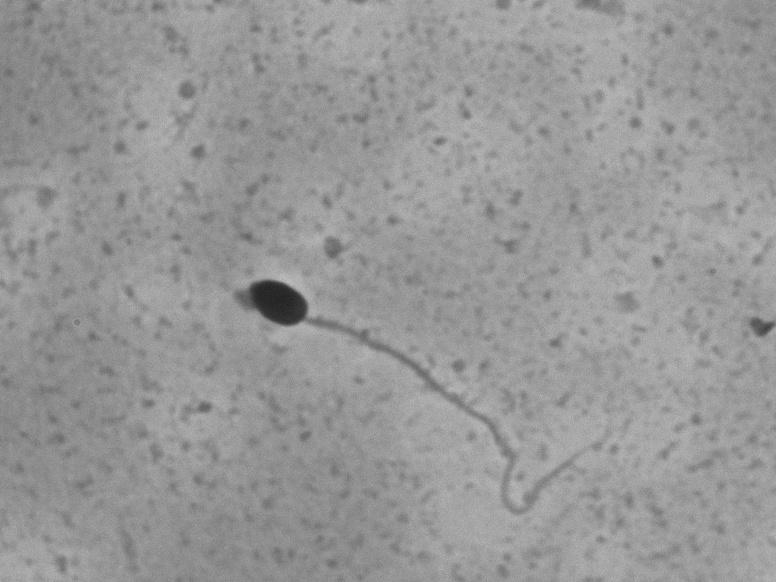Abnormal: (230, 264, 616, 525)
